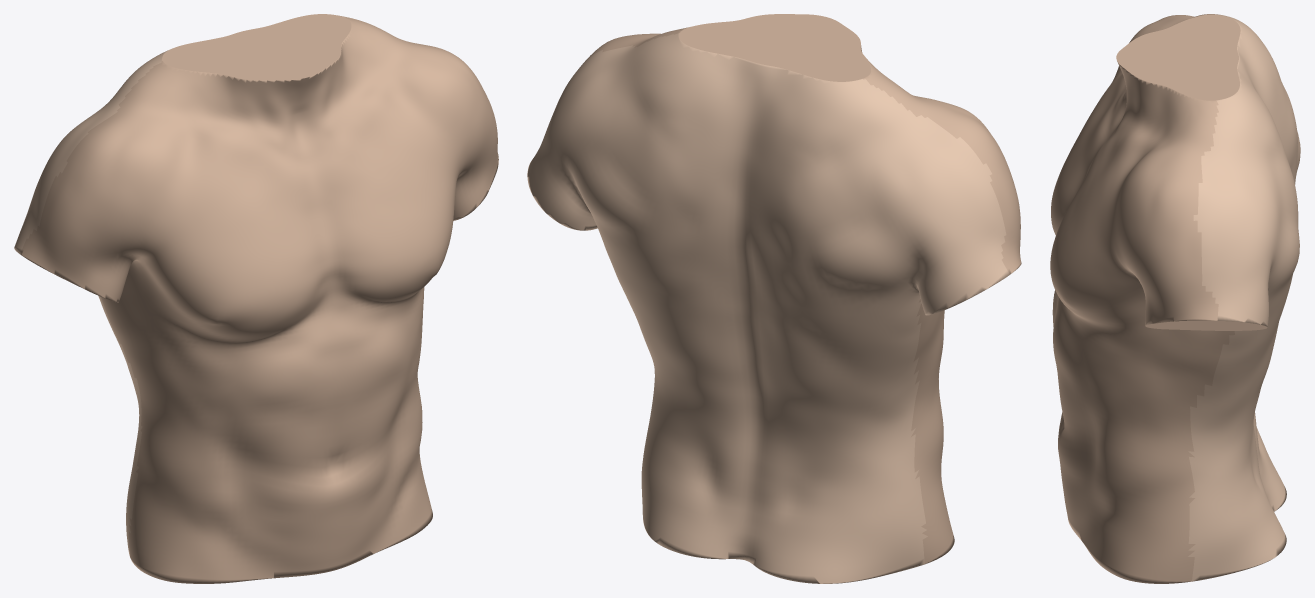
Rendered from male-back.glb.
3 views of the same model, side by side, from view 1: azimuth 30°, elevation 25°; view 2: azimuth 150°, elevation 25°; view 3: azimuth 270°, elevation 25° (orthographic). The views are drawn at different scales.
Visible parts, largest first — view 1: context, paintable; view 2: paintable, context; view 3: context, paintable.
Part boxes in pixels (bbox=[...]): context: bbox=[20, 14, 498, 583]; paintable: bbox=[14, 15, 411, 557]; paintable: bbox=[527, 33, 1009, 583]; context: bbox=[581, 14, 1021, 564]; context: bbox=[1050, 14, 1267, 583]; paintable: bbox=[1188, 15, 1300, 581].
Bounding box in the file's own units: 515 × 500 × 247.
